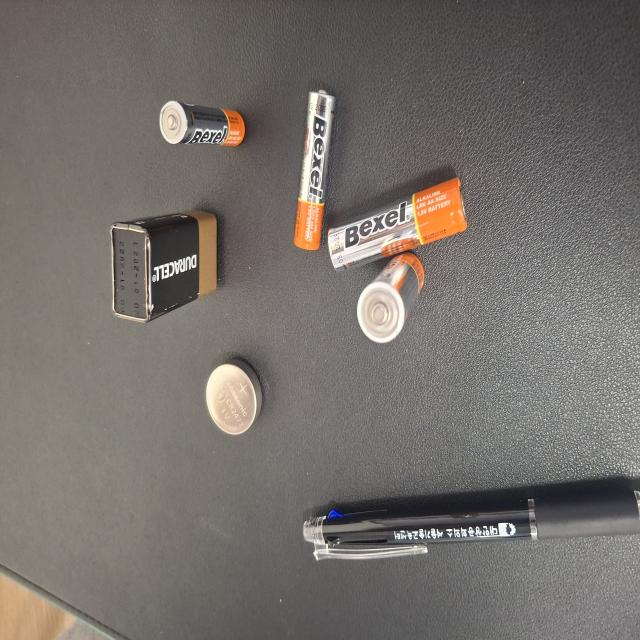9V: (238, 146, 322, 290)
AA: (277, 437, 346, 621), (223, 476, 290, 565)
AAA: (292, 392, 411, 447), (370, 213, 404, 326)
COIN: (154, 274, 210, 348)
